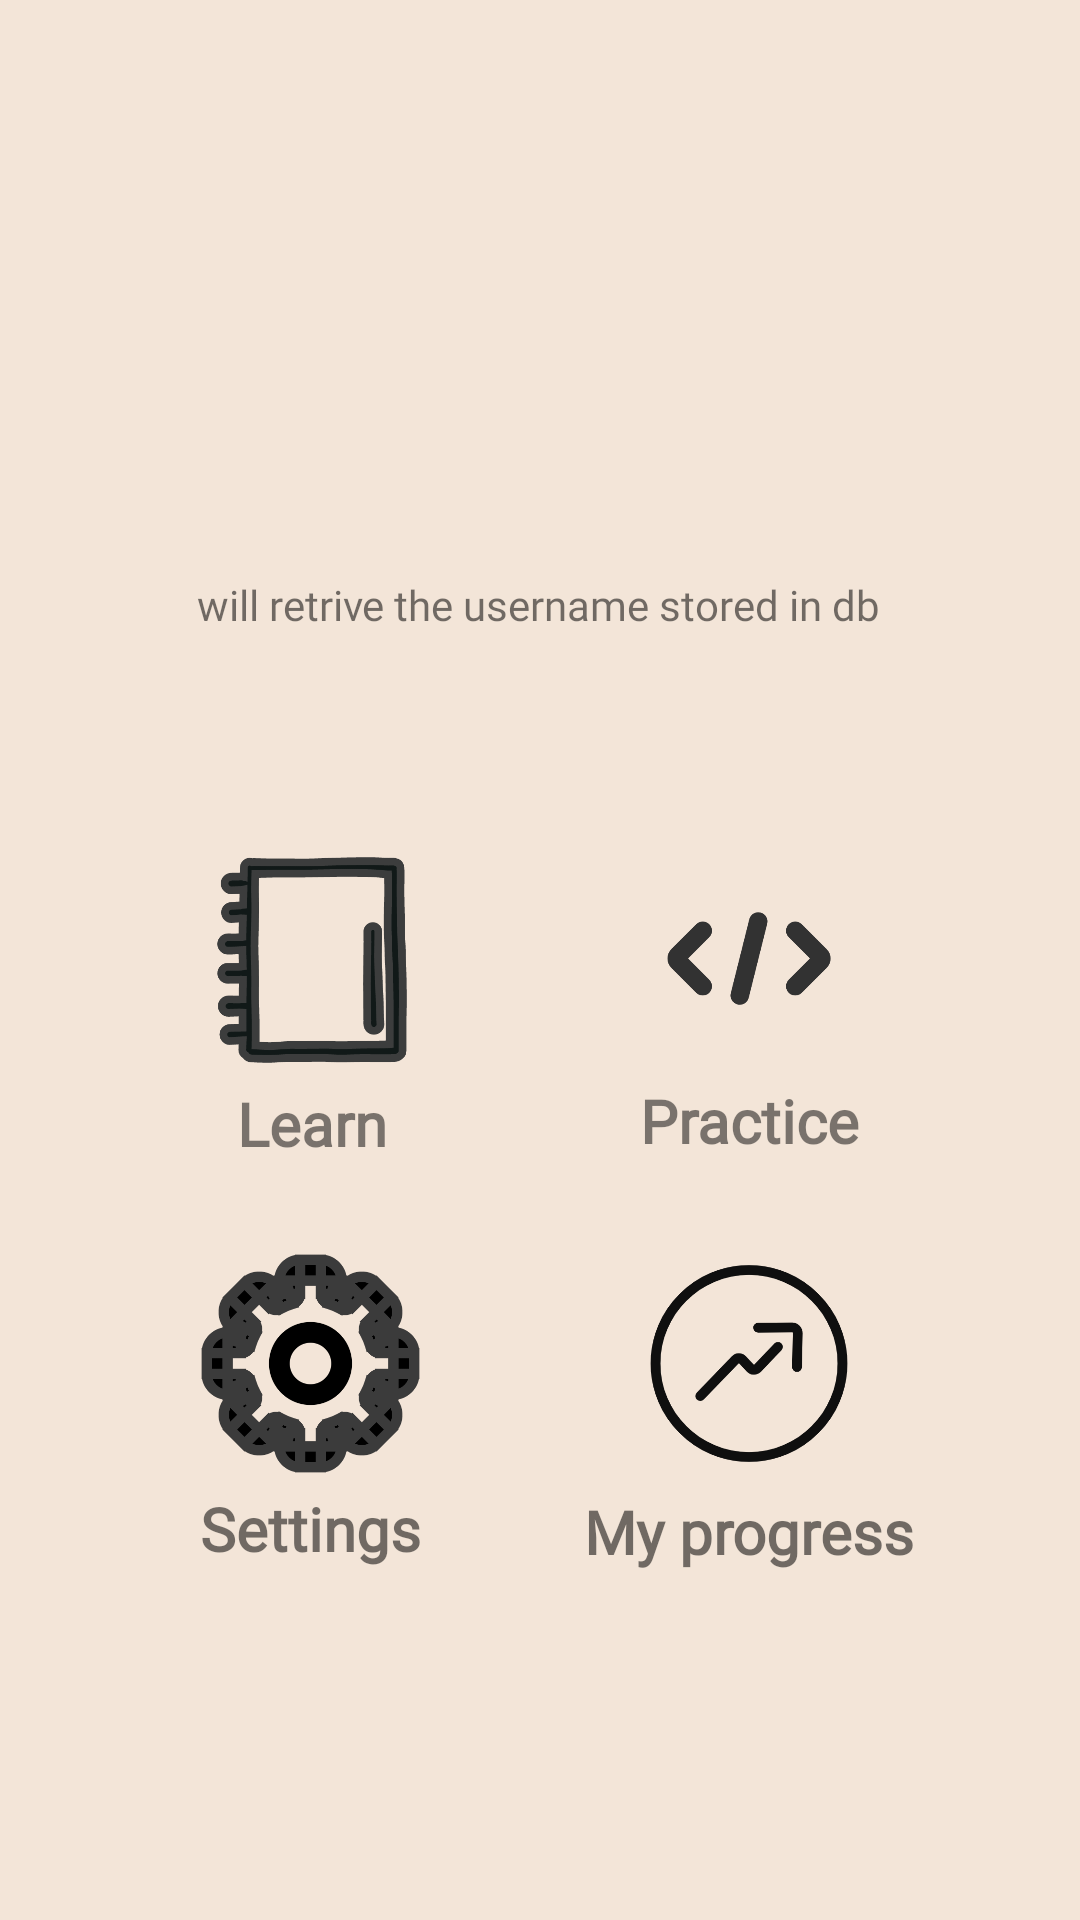

Screen size 1080w x 1920h. Icon name, then its box in pixels as [x1=x1, y1=y1, x2=x2, y2=y2]:
code: [x1=667, y1=912, x2=831, y2=1005]
